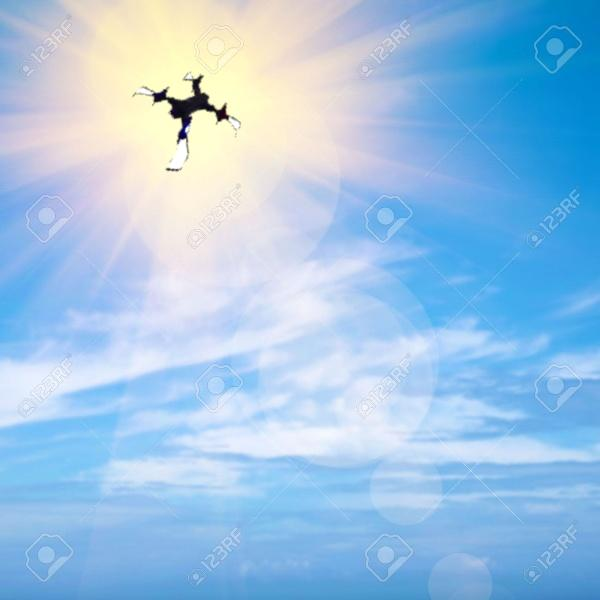drone: (121, 65, 238, 182)
